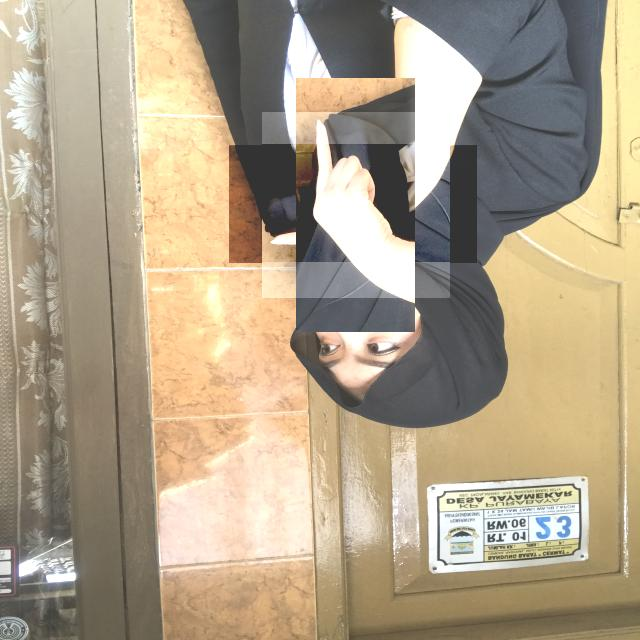kamu: (262, 112, 450, 298), (229, 144, 477, 262)
